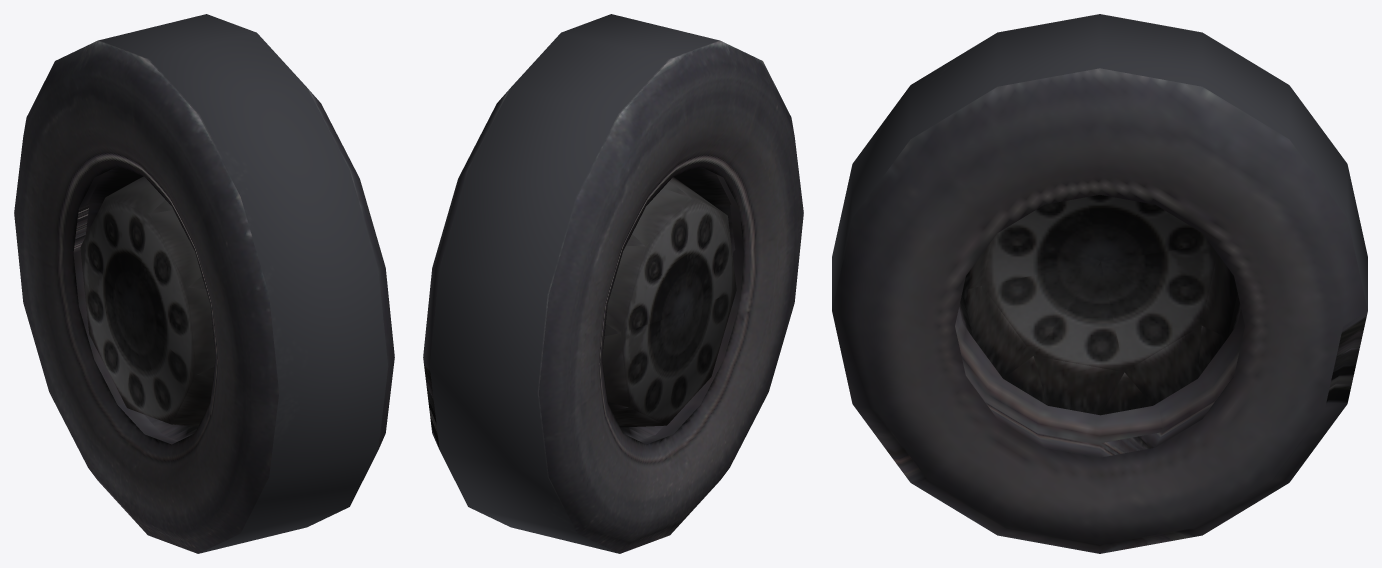
Rendered from Wheel Head FR Fuel Truck.fbx.
The picture shows the model from 3 angles, left to right: view 1: azimuth 30°, elevation 25°; view 2: azimuth 150°, elevation 25°; view 3: azimuth 270°, elevation 25°; orthographic projection. The views are drawn at different scales.
Parts seen in each view (by area): view 1: Wheel Head FR Fuel Truck; view 2: Wheel Head FR Fuel Truck; view 3: Wheel Head FR Fuel Truck.
Part boxes in pixels (x1=…): Wheel Head FR Fuel Truck: x1=14, y1=14, x2=394, y2=553; Wheel Head FR Fuel Truck: x1=423, y1=14, x2=803, y2=553; Wheel Head FR Fuel Truck: x1=832, y1=14, x2=1367, y2=553.
Bounding box in the file's own units: 34.94 × 108 × 108.
